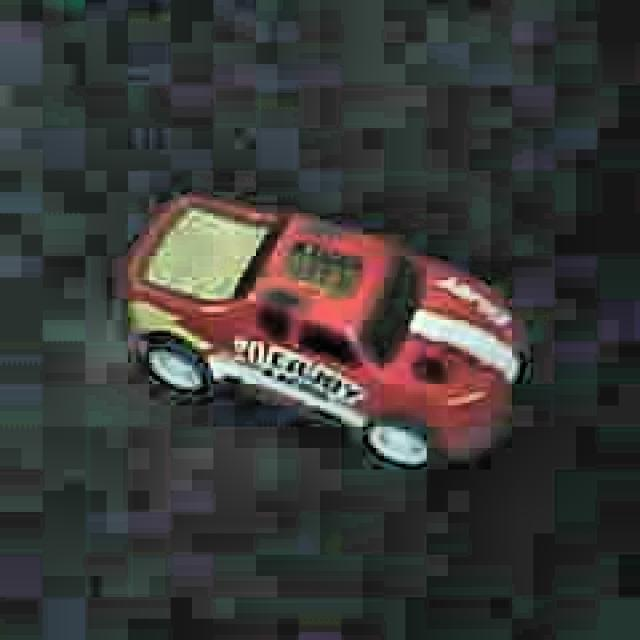car: (120, 185, 528, 475)
